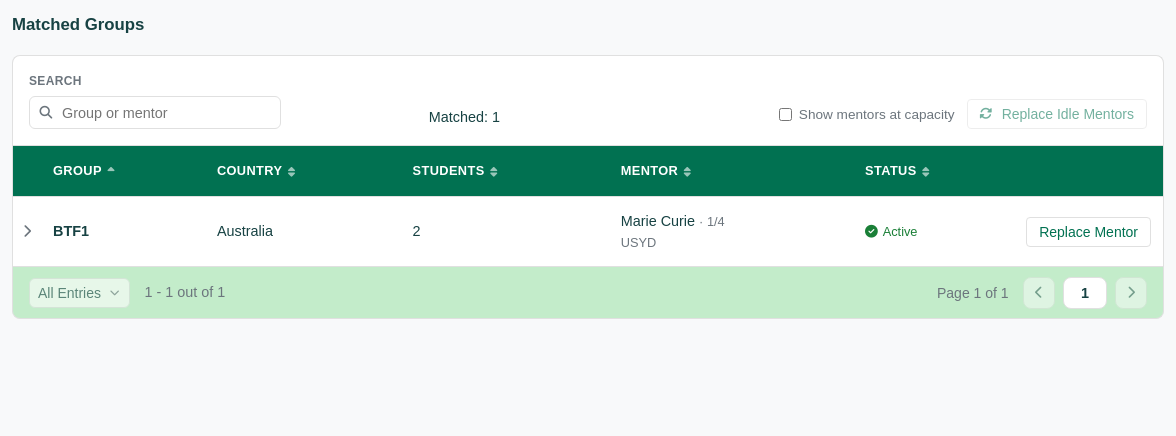
Test: MatchedGroupsPanel › shows the backend rejection when replacing with a mentor at capacity
Click the button "Replace Mentor". click: (1089, 232)
box: [1026,217,1151,247]
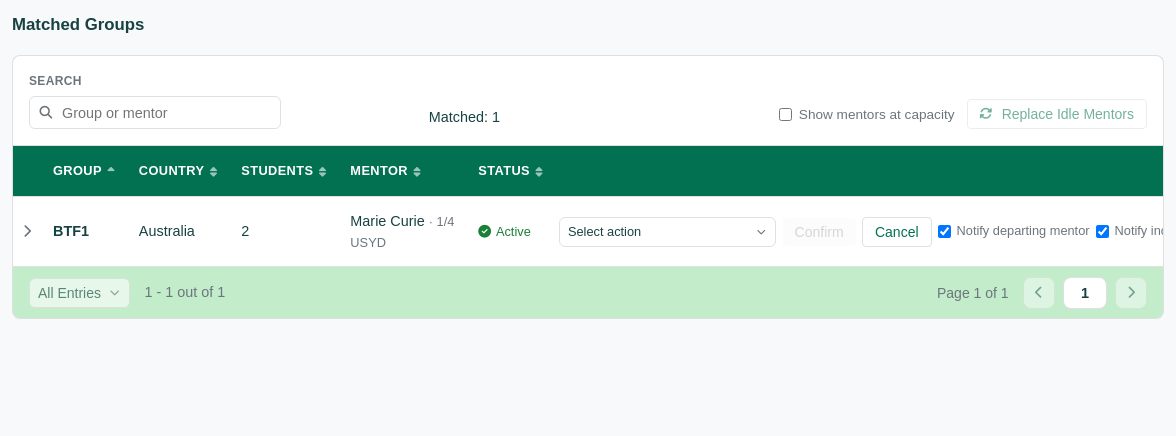
Click the checkbox labelled "Show mentors at capacity". click: (786, 114)
box: [780,108,792,121]
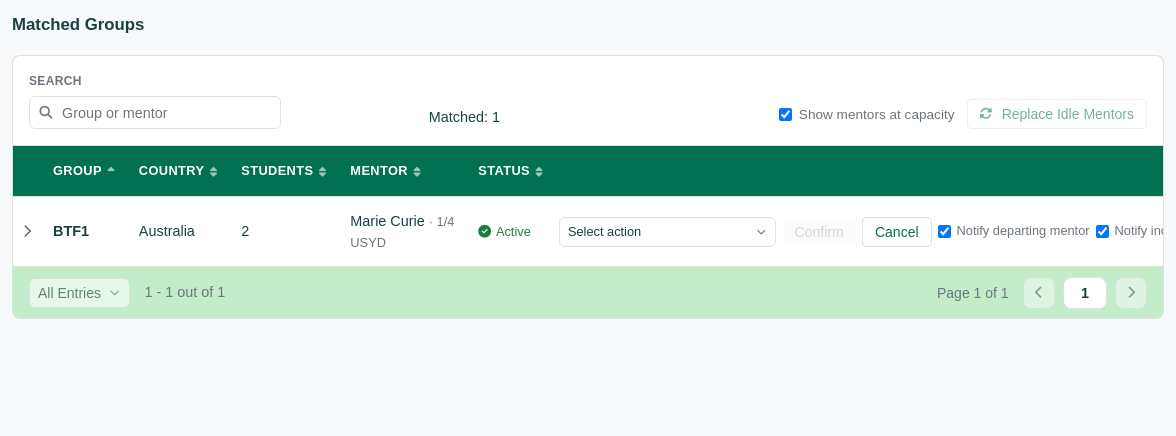
Press the mouse on the element with class "matched-groups__replace-select" at (668, 232), box [559,217,776,247]
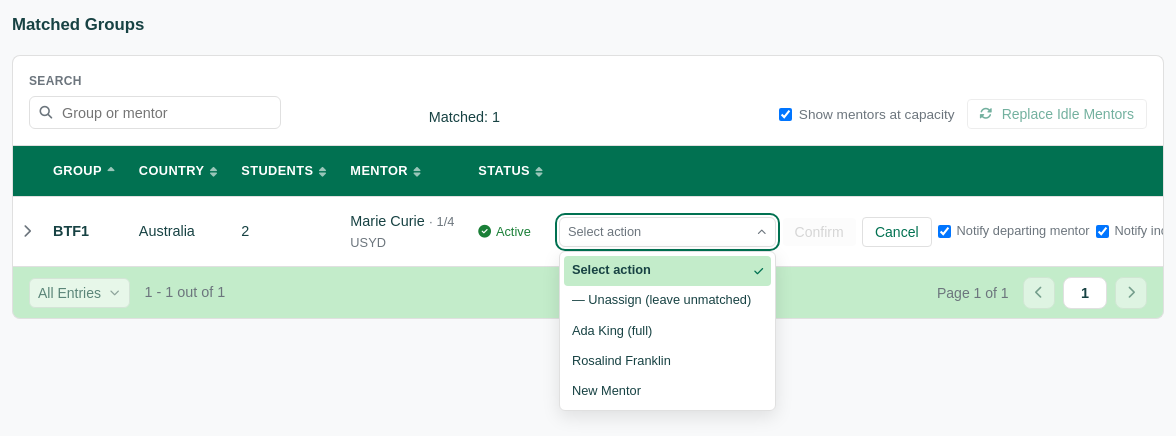
Press the mouse on the option "Ada King (full)" at (612, 330), box [572,322,652,338]
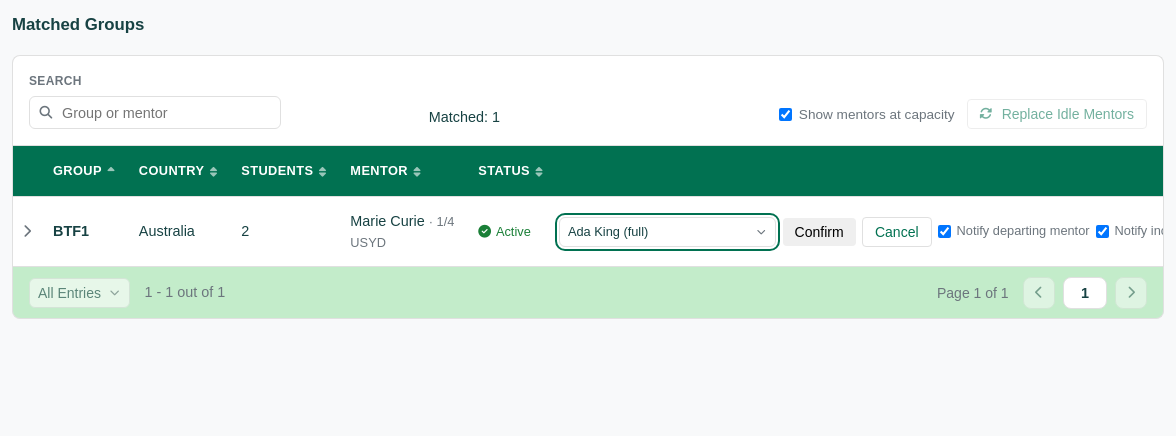
Click the button "Confirm". click: (819, 232)
box: [783,218,856,246]
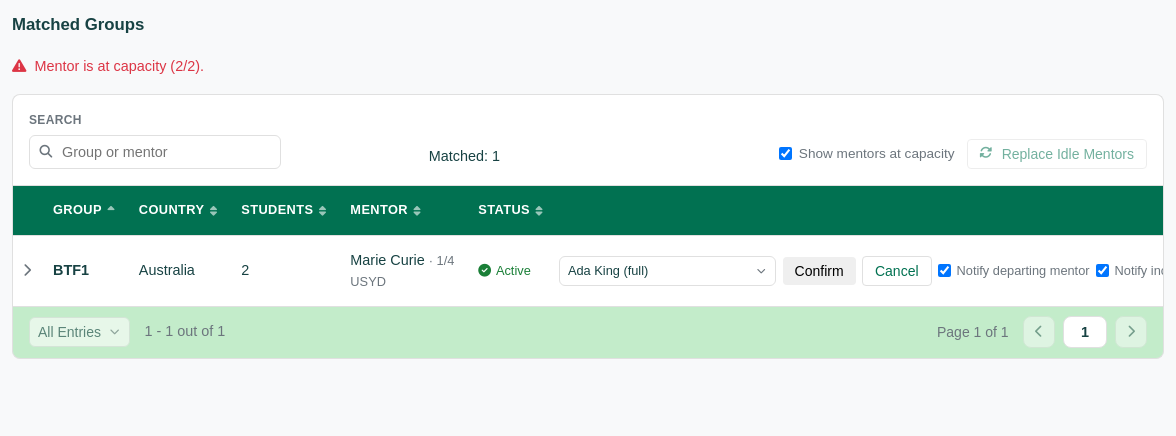
Check: the text "Mentor is at capacity (2/2)." is shown, box [34,55,204,78]
